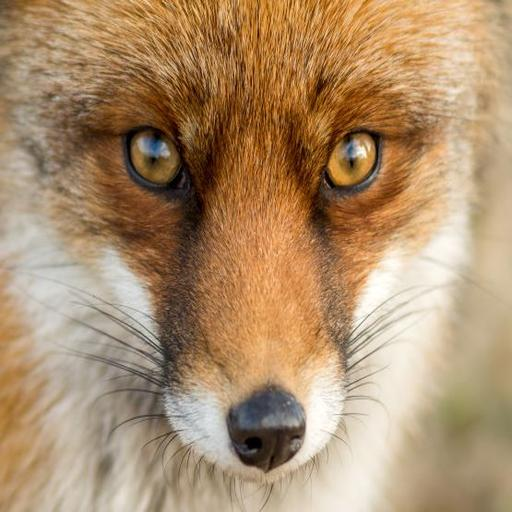Fox: (0, 0, 506, 508)
